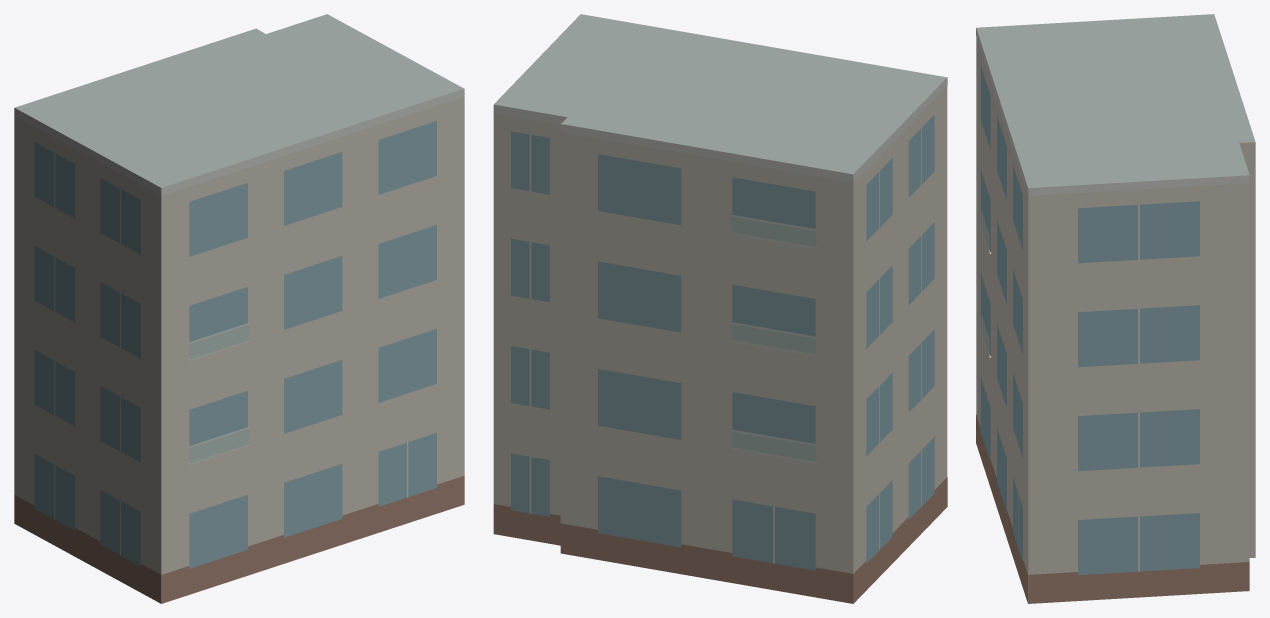
Rendered from survey-upis-32716282.glb.
3 renders of one model, left to right at view 1: azimuth 30°, elevation 25°; view 2: azimuth 150°, elevation 25°; view 3: azimuth 270°, elevation 25°, orthographic. The views are drawn at different scales.
Parts seen in each view (by area): view 1: survey-upis-32716282.tmp; view 2: survey-upis-32716282.tmp; view 3: survey-upis-32716282.tmp.
Part boxes in pixels (x1,y1,x2,y2): survey-upis-32716282.tmp: (14,14,464,603); survey-upis-32716282.tmp: (493,14,947,603); survey-upis-32716282.tmp: (976,14,1255,603).
Size of the model in its own units: 11.51 by 12.8 by 7.81.
